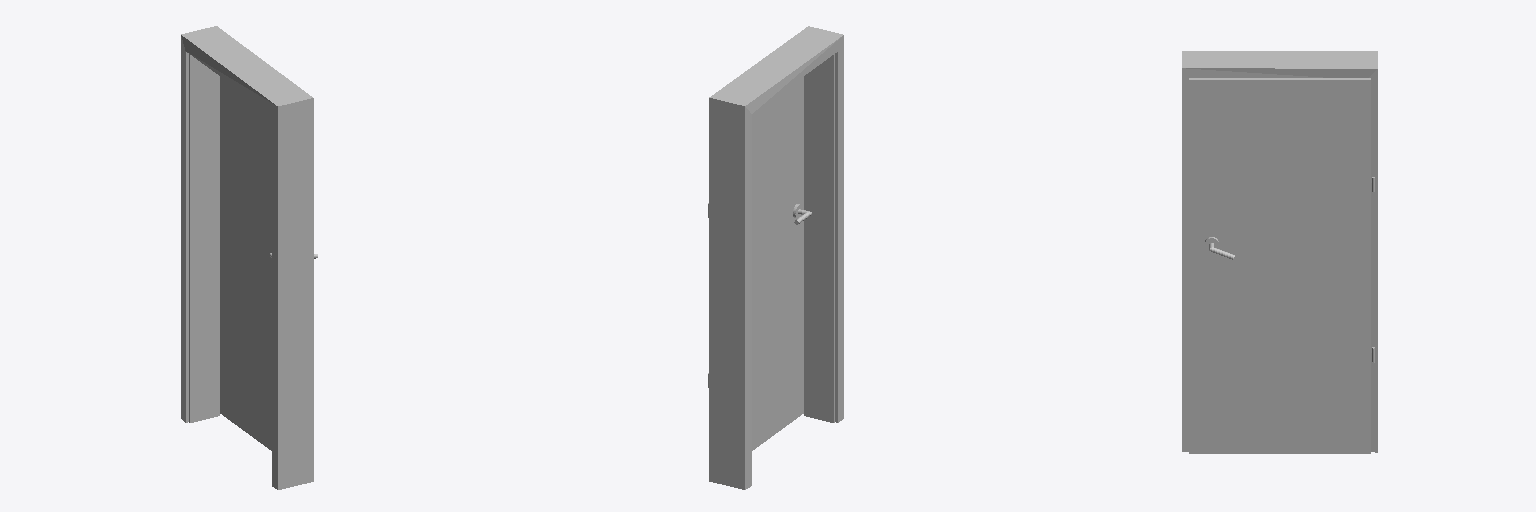
File: door72.obj
3 views of the same model, side by side, from view 1: azimuth 30°, elevation 25°; view 2: azimuth 150°, elevation 25°; view 3: azimuth 270°, elevation 25° (orthographic).
Visible parts, largest first — view 1: Cylinder.005, Cylinder.001; view 2: Cylinder.005, Cylinder.001; view 3: Cylinder.001, Cylinder.005.
Boxes of the visible parts, x1=… form: Cylinder.005: x1=181, y1=26, x2=313, y2=489; Cylinder.001: x1=220, y1=77, x2=271, y2=450; Cylinder.005: x1=708, y1=26, x2=843, y2=489; Cylinder.001: x1=708, y1=77, x2=803, y2=450; Cylinder.001: x1=1189, y1=78, x2=1374, y2=453; Cylinder.005: x1=1182, y1=51, x2=1377, y2=452.
Size of the model in its own units: 0.3039 by 2.05 by 0.95.